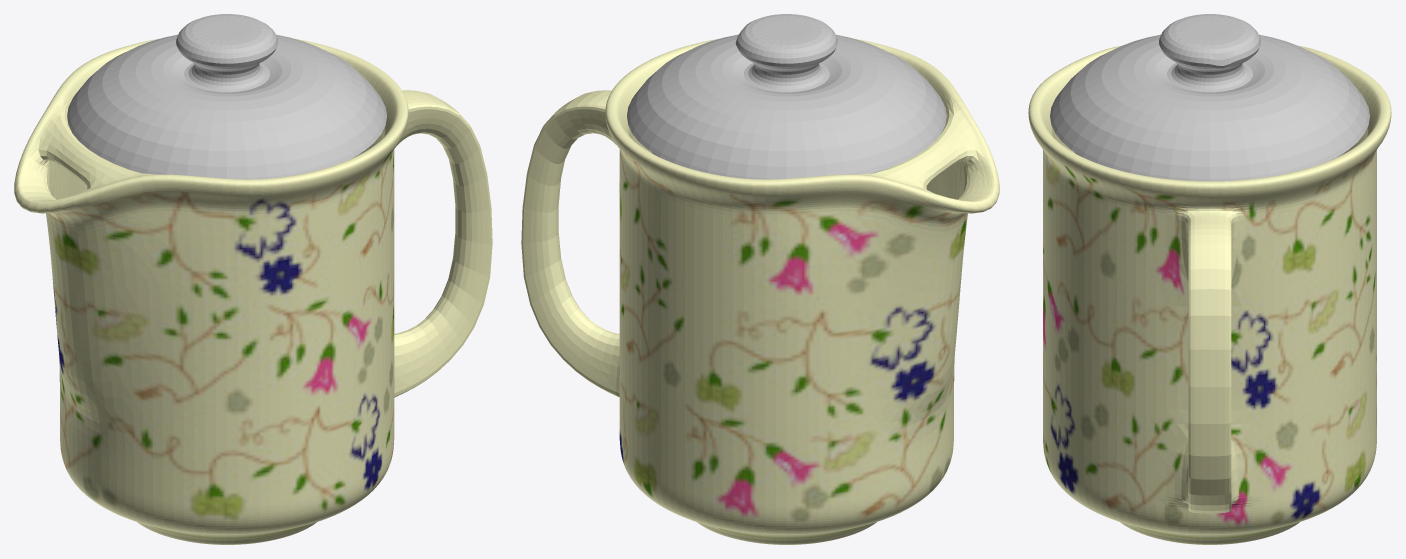
Rendered from teapot.obj.
3 renders of one model, left to right at view 1: azimuth 30°, elevation 25°; view 2: azimuth 150°, elevation 25°; view 3: azimuth 270°, elevation 25°, orthographic.
Parts seen in each view (by area): view 1: teapot_Plane.012, top_teapot_Plane.011; view 2: teapot_Plane.012, top_teapot_Plane.011; view 3: teapot_Plane.012, top_teapot_Plane.011.
Part boxes in pixels (left/top/right/bottom): teapot_Plane.012: left=14, top=38, right=492, bottom=544; top_teapot_Plane.011: left=67, top=14, right=386, bottom=179; teapot_Plane.012: left=521, top=38, right=999, bottom=544; top_teapot_Plane.011: left=627, top=14, right=946, bottom=179; teapot_Plane.012: left=1028, top=46, right=1391, bottom=544; top_teapot_Plane.011: left=1050, top=14, right=1369, bottom=181.
Bounding box in the file's own units: 21.67 × 21.3 × 14.73.
